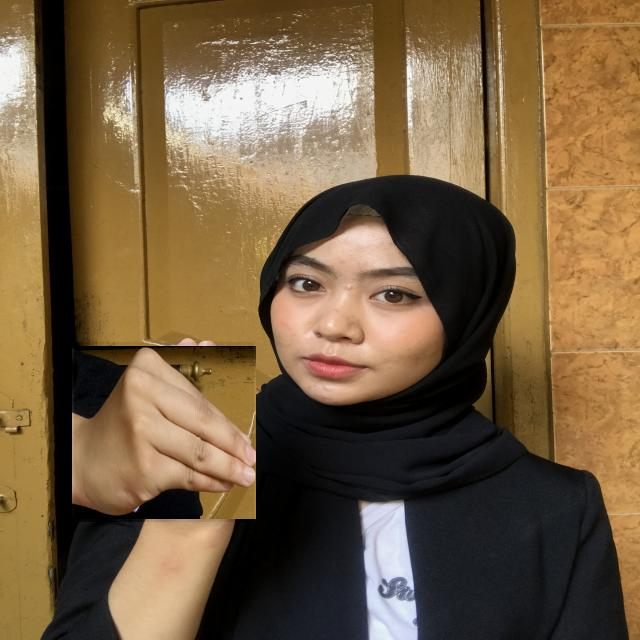kapan: (74, 342, 254, 522)
